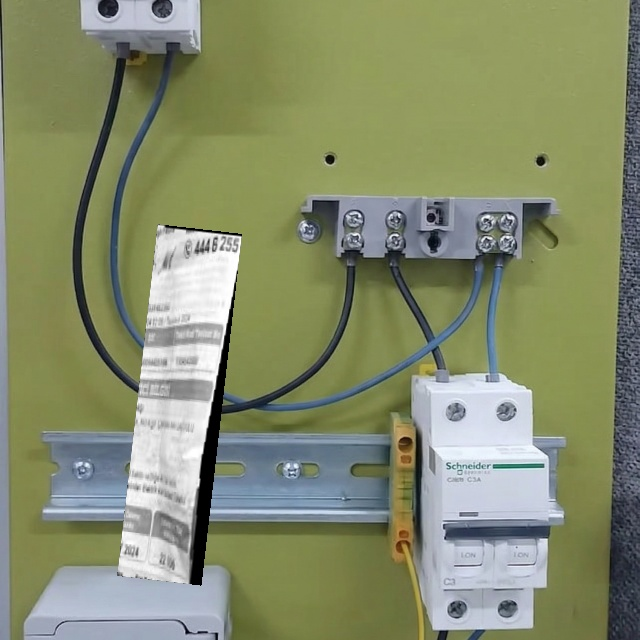electricity-bill: (116, 223, 241, 585)
